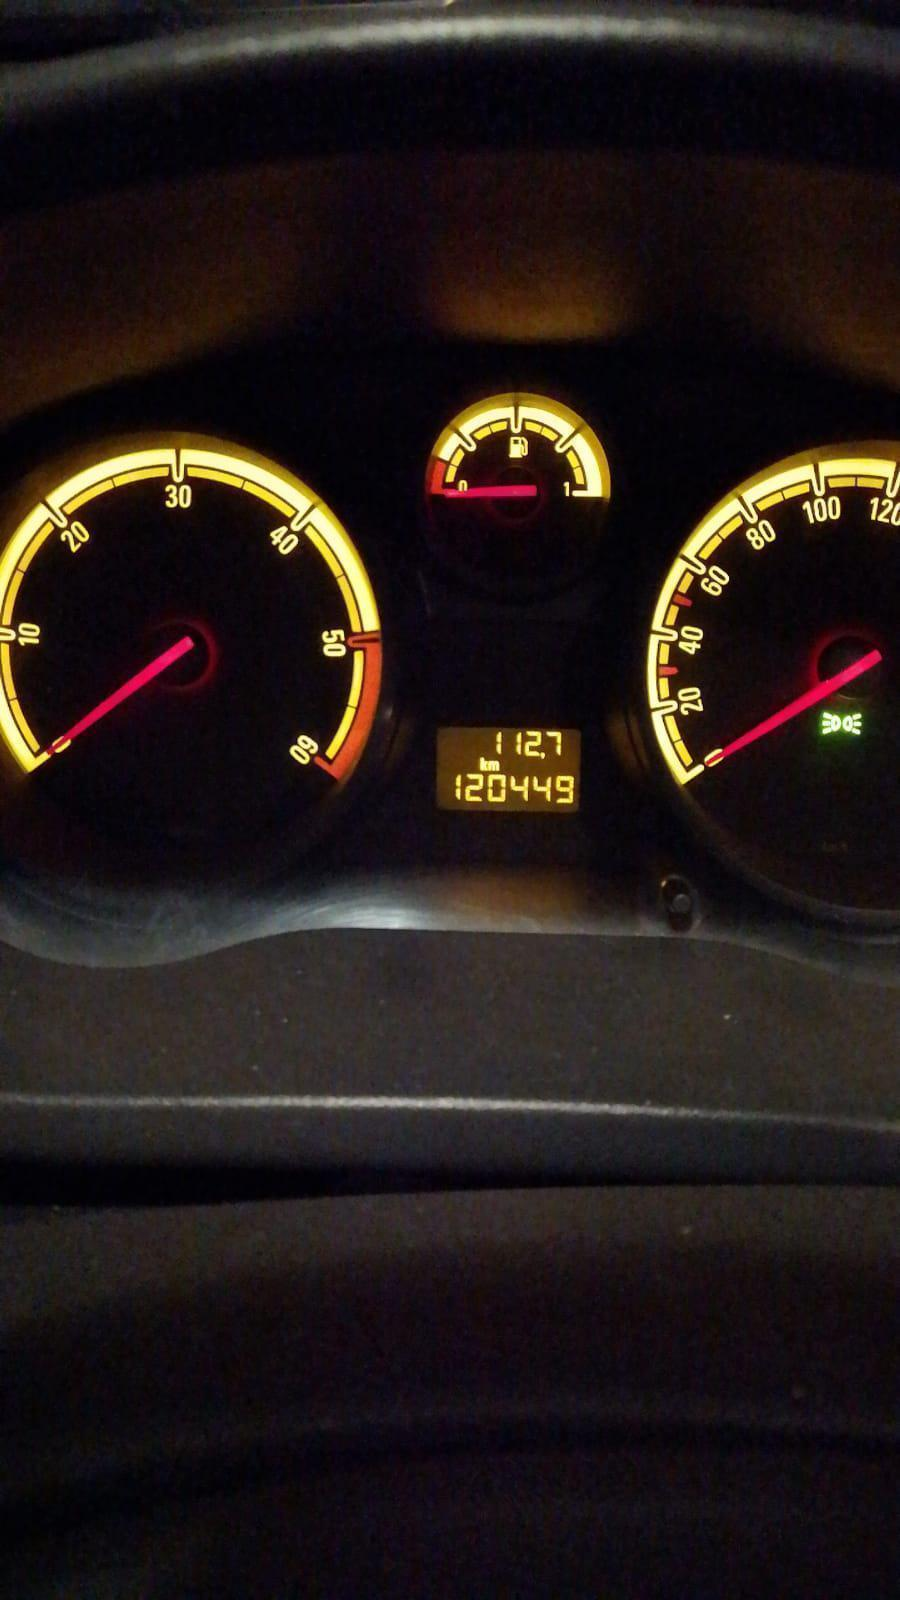,: (540, 752, 546, 759)
0: (486, 773, 505, 803)
1: (454, 773, 462, 800), (495, 730, 502, 755), (514, 731, 522, 756)
2: (463, 773, 484, 802), (523, 730, 542, 757)
4: (509, 774, 529, 802), (532, 775, 551, 801)
7: (545, 730, 562, 756)
9: (554, 775, 574, 803)
X: (487, 759, 500, 771), (478, 756, 488, 771)
odometer: (434, 724, 584, 815)
